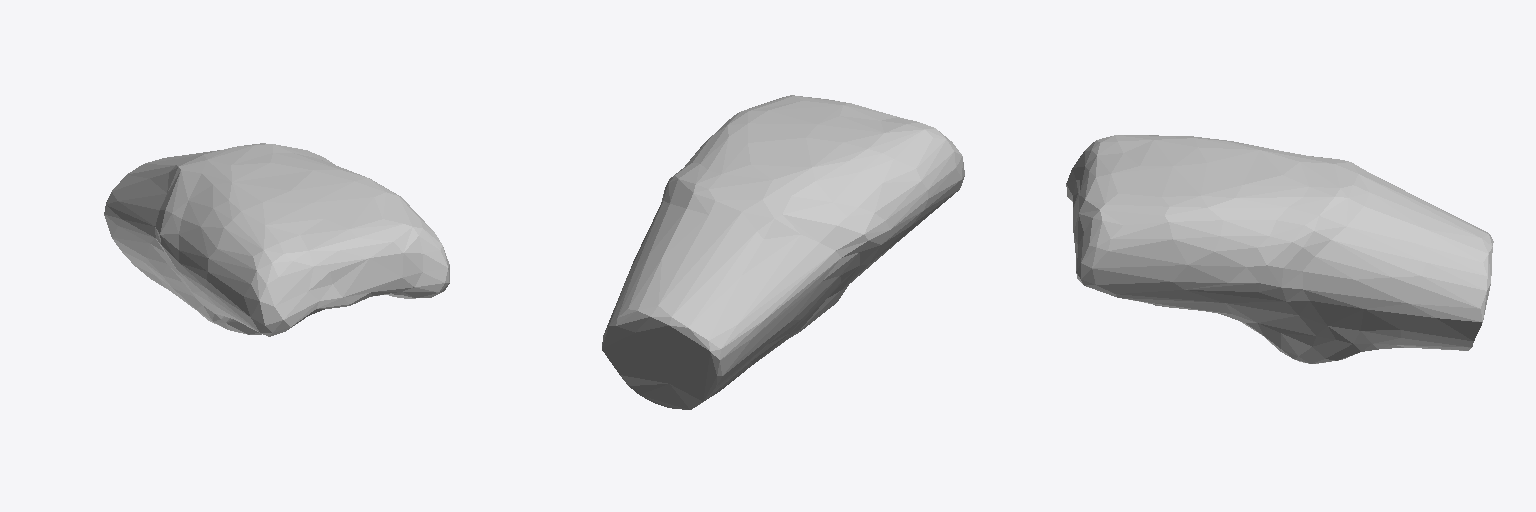
The model's file is local_t41_7780_si.OBJ.
3 views of the same model, side by side, from view 1: azimuth 30°, elevation 25°; view 2: azimuth 150°, elevation 25°; view 3: azimuth 270°, elevation 25° (orthographic).
Visible parts, largest first — view 1: Group21110; view 2: Group21110; view 3: Group21110.
Part boxes in pixels (x1,y1,x2,y2): Group21110: (104,143,449,336); Group21110: (602,95,964,409); Group21110: (1066,135,1493,363).
Bounding box in the file's own units: 5.91 × 4.97 × 10.45.